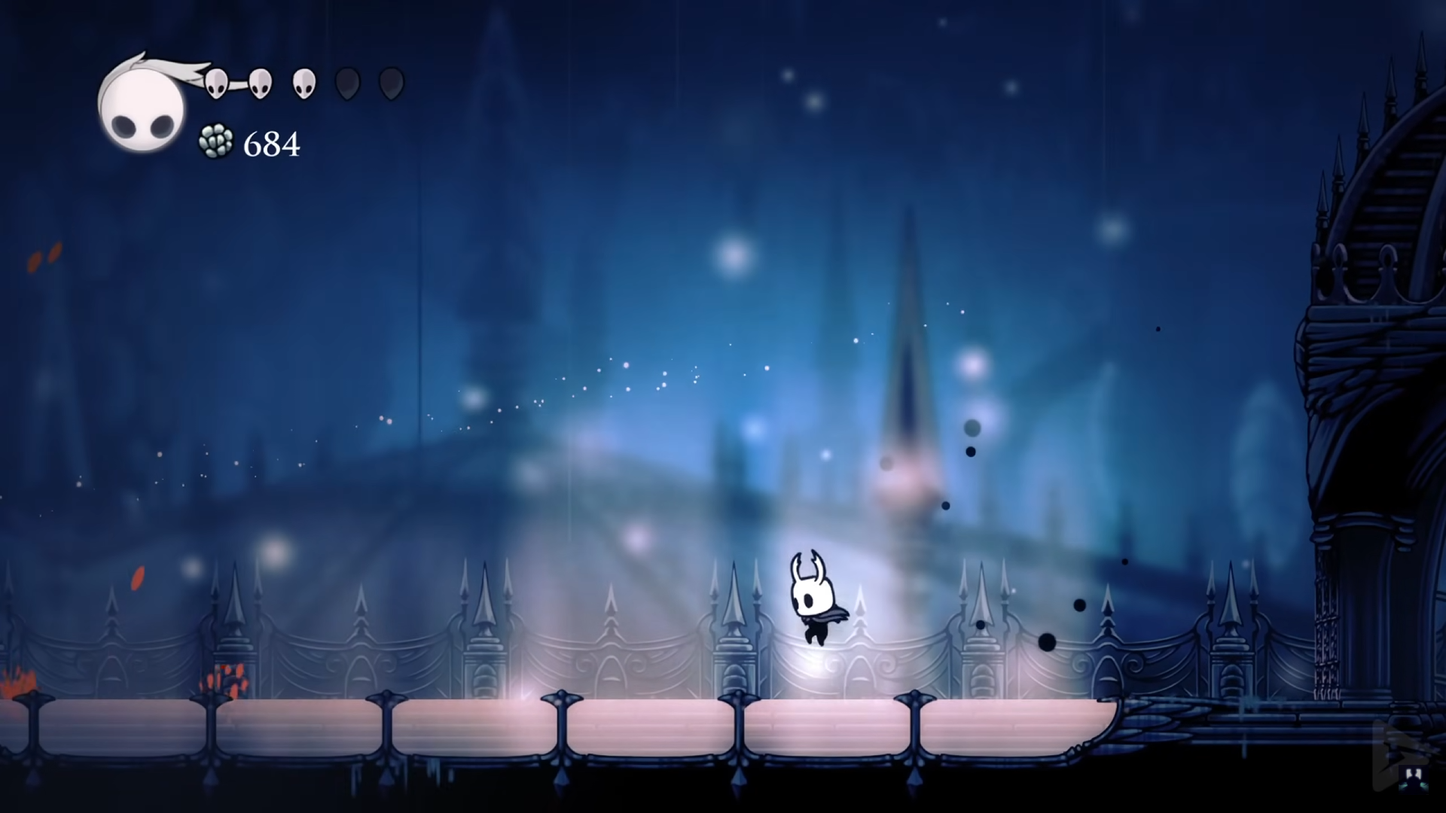HK: (783, 547, 849, 648)
